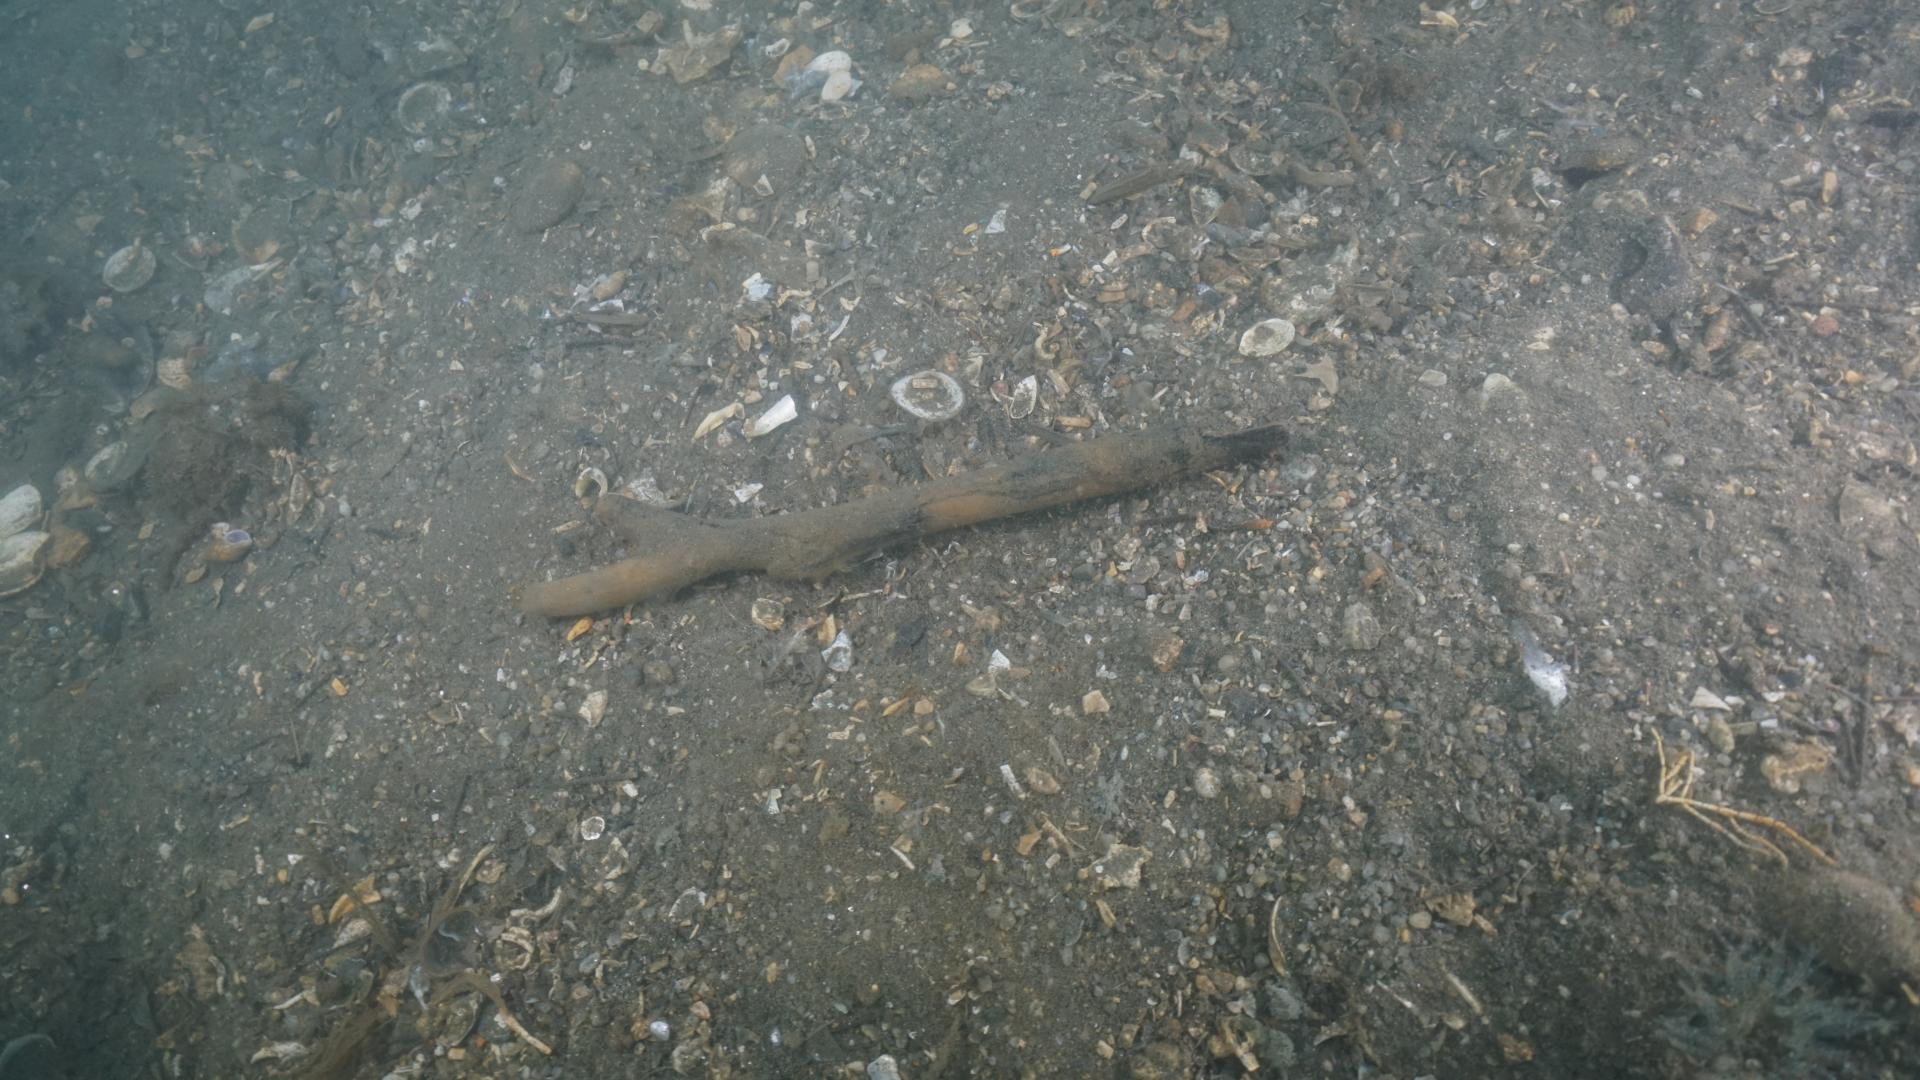wood: (516, 409, 1287, 620)
